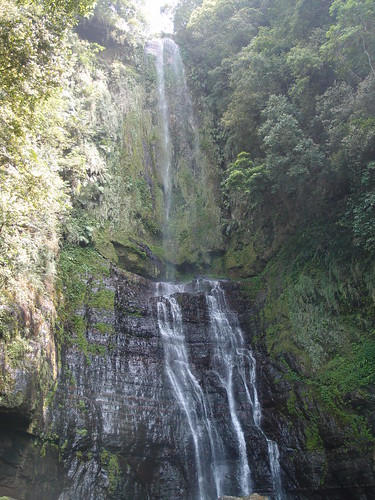wufengciWaterfall: (78, 20, 307, 492)
